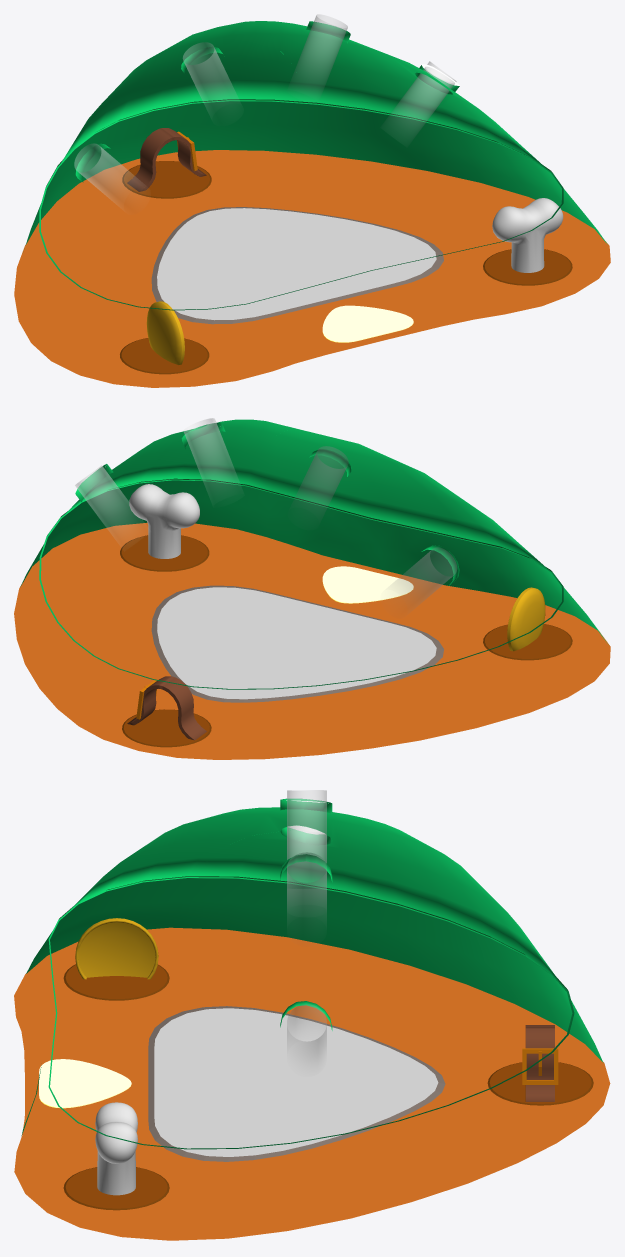
Rendered from puppy_interior.glb.
The picture shows the model from 3 angles, top to bottom: view 1: azimuth 30°, elevation 25°; view 2: azimuth 150°, elevation 25°; view 3: azimuth 270°, elevation 25°; orthographic projection. The views are drawn at different scales.
Visible parts, largest first — view 1: Floor, Walls, Light_Shafts, Bone, Collar, Frisbee; view 2: Floor, Walls, Light_Shafts, Bone, Collar, Frisbee; view 3: Floor, Walls, Light_Shafts, Frisbee, Bone, Collar.
Part boxes in pixels (left/top/right/bottom): Floor: left=14, top=150, right=610, bottom=387; Walls: left=25, top=21, right=607, bottom=310; Light_Shafts: left=74, top=14, right=456, bottom=204; Bone: left=483, top=198, right=572, bottom=285; Collar: left=122, top=128, right=211, bottom=198; Frisbee: left=120, top=301, right=209, bottom=374; Floor: left=14, top=522, right=610, bottom=759; Walls: left=20, top=419, right=607, bottom=689; Light_Shafts: left=75, top=418, right=456, bottom=608; Bone: left=120, top=484, right=209, bottom=571; Collar: left=122, top=676, right=211, bottom=747; Frisbee: left=483, top=587, right=572, bottom=660; Floor: left=14, top=927, right=610, bottom=1240; Walls: left=21, top=798, right=603, bottom=1149; Light_Shafts: left=287, top=790, right=326, bottom=1063; Frisbee: left=63, top=918, right=169, bottom=1000; Bone: left=63, top=1102, right=169, bottom=1210; Collar: left=487, top=1025, right=593, bottom=1105.
Size of what is drawn, in the model's own units: 228 by 93.73 by 183.
14 materials, 1 textured.
